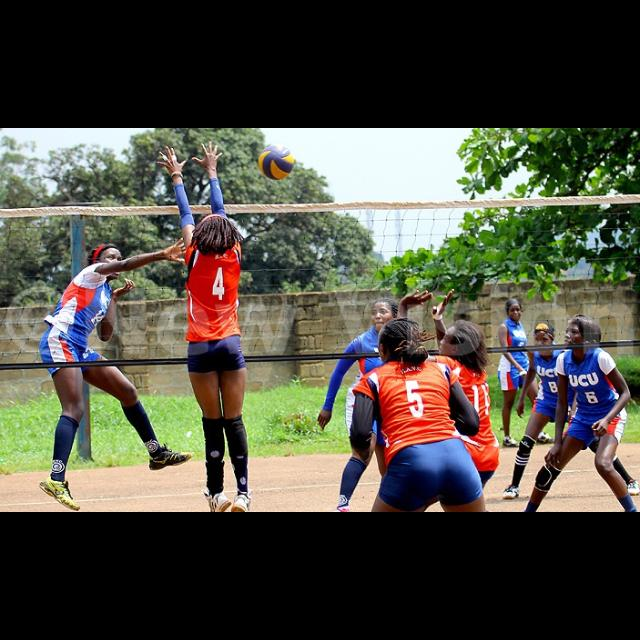head: (439, 320, 485, 370), (377, 319, 421, 365), (200, 214, 236, 256), (564, 316, 604, 350), (91, 245, 125, 281), (566, 318, 602, 350), (373, 298, 399, 334), (505, 298, 521, 322)
person: (497, 294, 557, 450)
